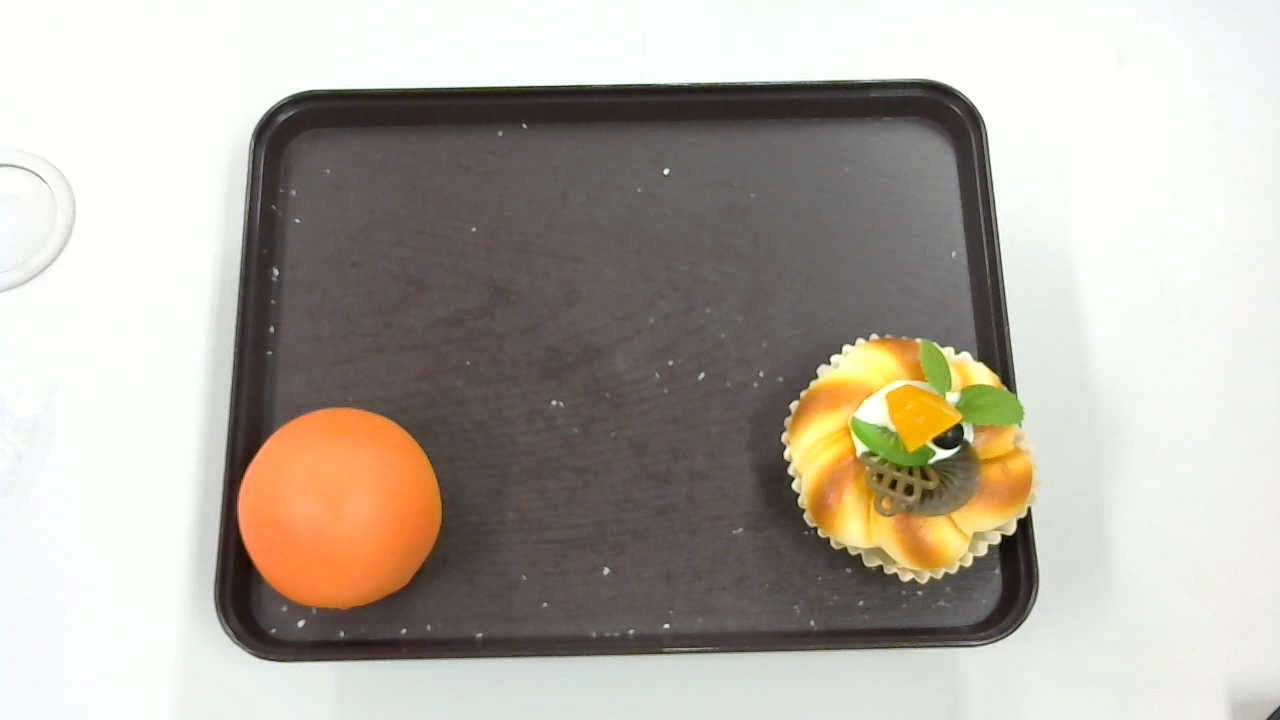bun: (236, 407, 442, 611)
fruit tart: (779, 333, 1040, 583)
